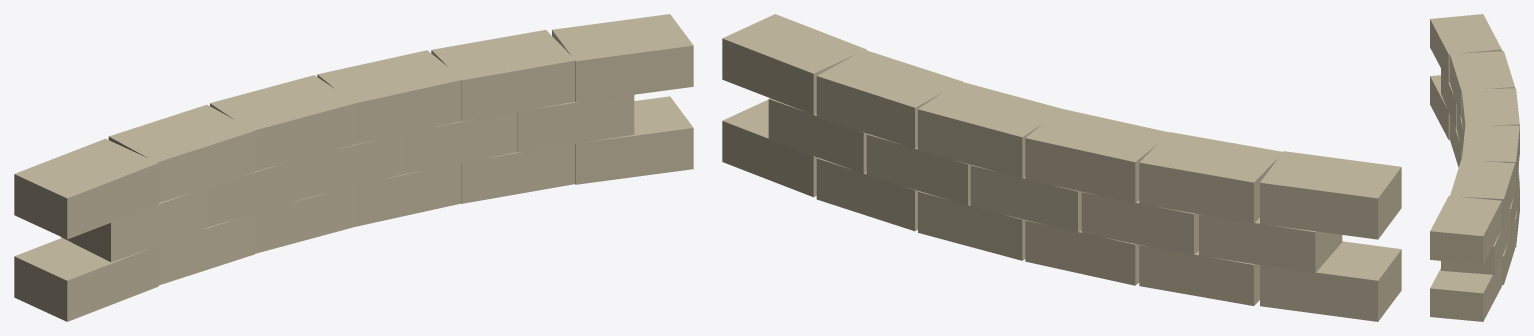
File: SandbagWall.fbx
3 views of the same model, side by side, from view 1: azimuth 30°, elevation 25°; view 2: azimuth 150°, elevation 25°; view 3: azimuth 270°, elevation 25° (orthographic). The views are drawn at different scales.
Visible parts, largest first — view 1: SandbagWall_Mesh; view 2: SandbagWall_Mesh; view 3: SandbagWall_Mesh.
Part boxes in pixels (<box>): SandbagWall_Mesh: <box>14,14,693,321</box>; SandbagWall_Mesh: <box>722,14,1401,321</box>; SandbagWall_Mesh: <box>1430,14,1519,321</box>.
Bounding box in the file's own units: 3.67 × 0.6261 × 0.66.
